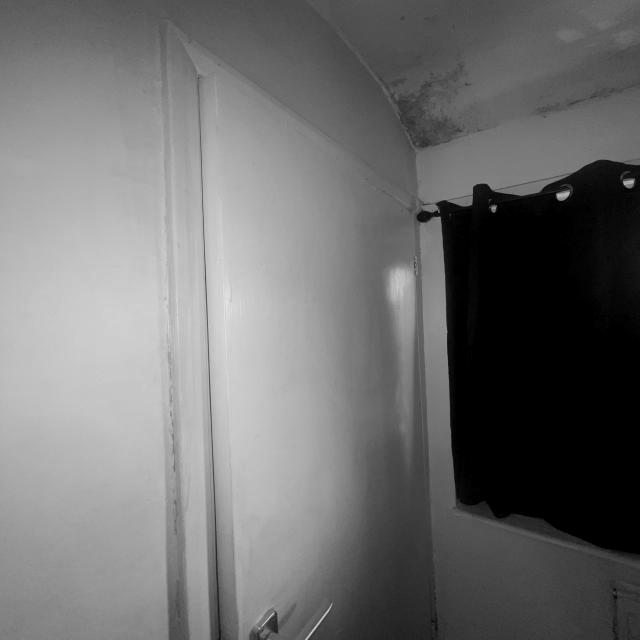stain marks: (362, 51, 511, 156), (521, 70, 640, 124)
